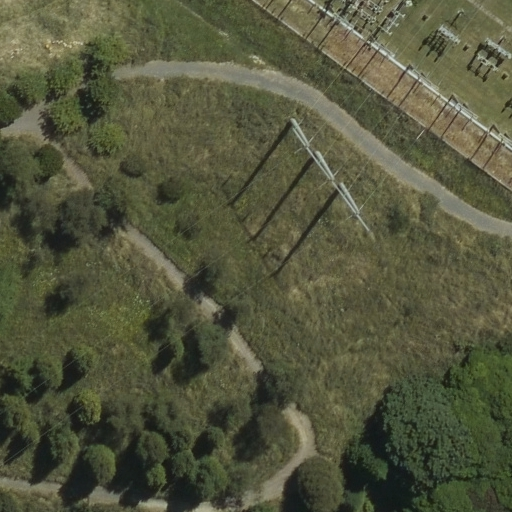DT: (272, 111, 374, 233)
